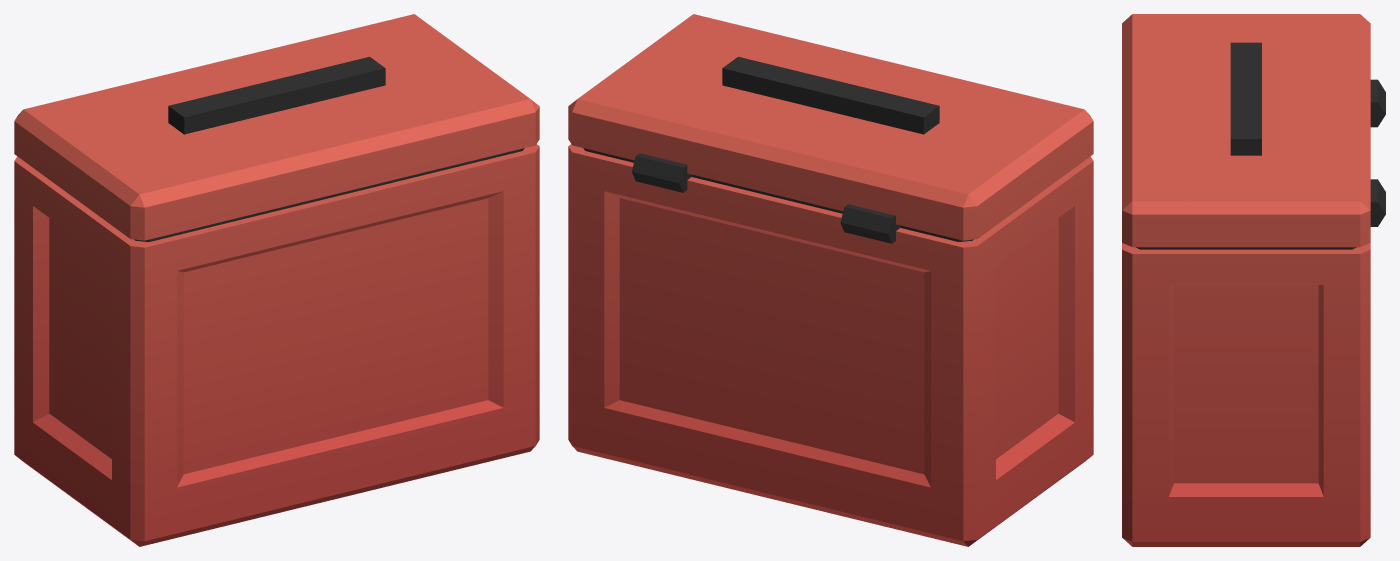
Rendered from AmoBox_10.fbx.
3 views of the same model, side by side, from view 1: azimuth 30°, elevation 25°; view 2: azimuth 150°, elevation 25°; view 3: azimuth 270°, elevation 25° (orthographic).
Visible parts, largest first — view 1: AmoBox_10; view 2: AmoBox_10; view 3: AmoBox_10.
Boxes of the visible parts, left/top/right/bottom form: AmoBox_10: left=14, top=14, right=539, bottom=546; AmoBox_10: left=568, top=14, right=1093, bottom=546; AmoBox_10: left=1122, top=14, right=1385, bottom=546.
Size of the model in its own units: 0.3506 by 0.3027 by 0.1995.
